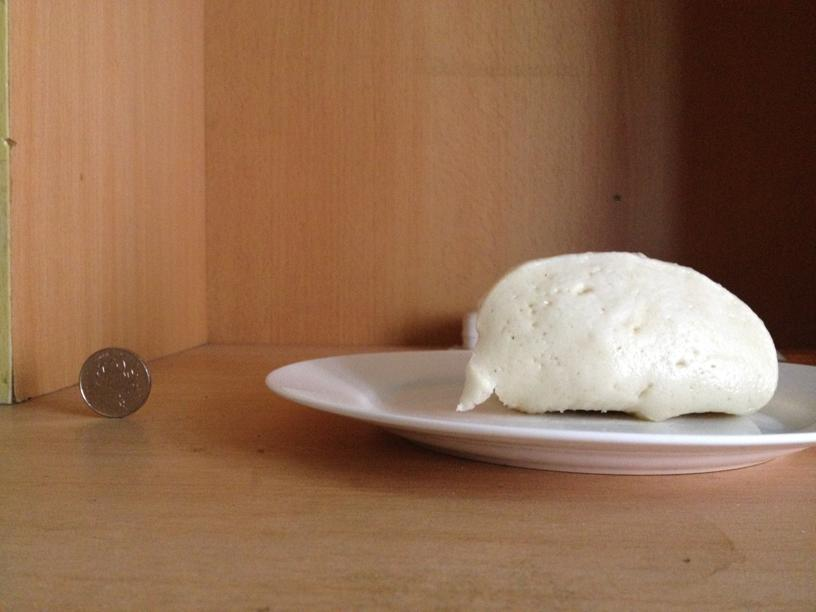bun: (467, 252, 778, 417)
coin: (73, 345, 154, 420)
